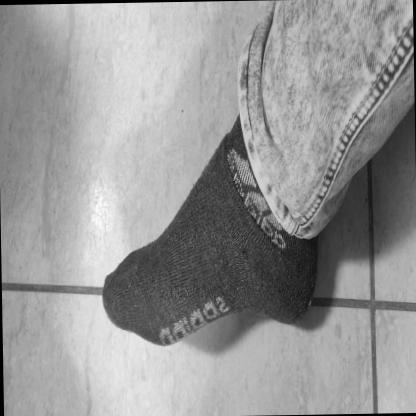ankle: (261, 200, 263, 206)
heel: (313, 279, 315, 283)
left_foot: (100, 123, 321, 349)
pinky: (114, 272, 116, 275)
toe: (105, 299, 107, 305)
